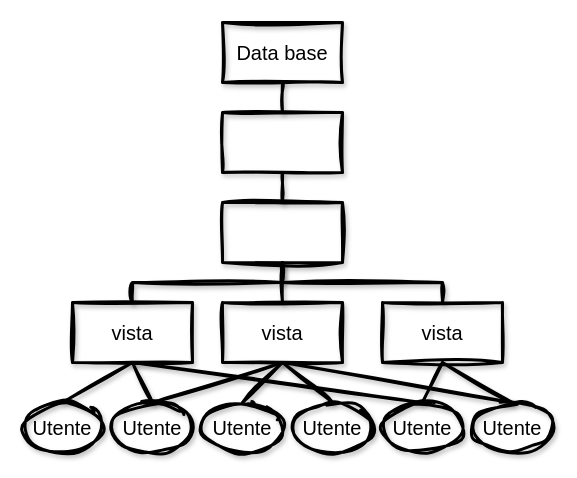
Some shapes in this 577 by 478 pixel diagram are drawn without their labels. Each missing label, with the centre of its shape:
"Schema interno" belongs at (283,143).
"Schema logico" belongs at (283,233).
